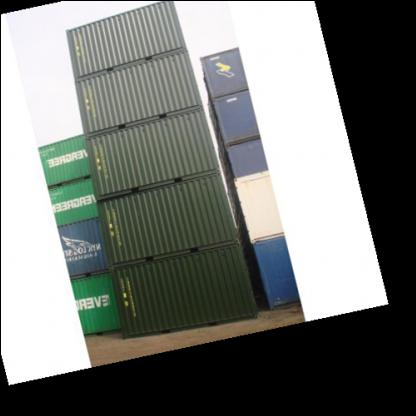Damage: (128, 118, 170, 136), (169, 178, 209, 192), (160, 257, 184, 274)
